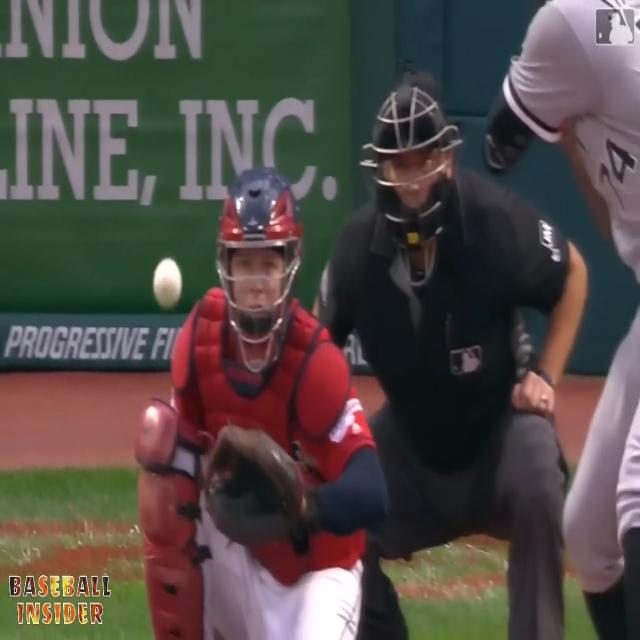baseball: (152, 256, 183, 310)
